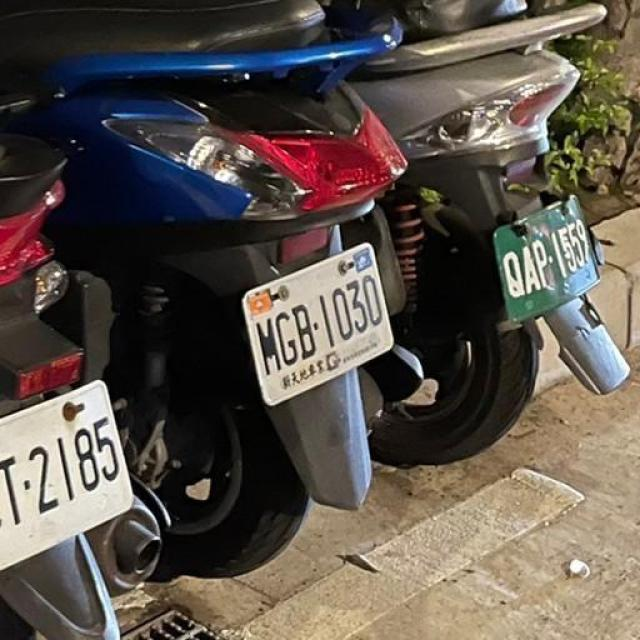GW: (481, 181, 615, 339)
W: (0, 372, 149, 604), (228, 235, 408, 414)
